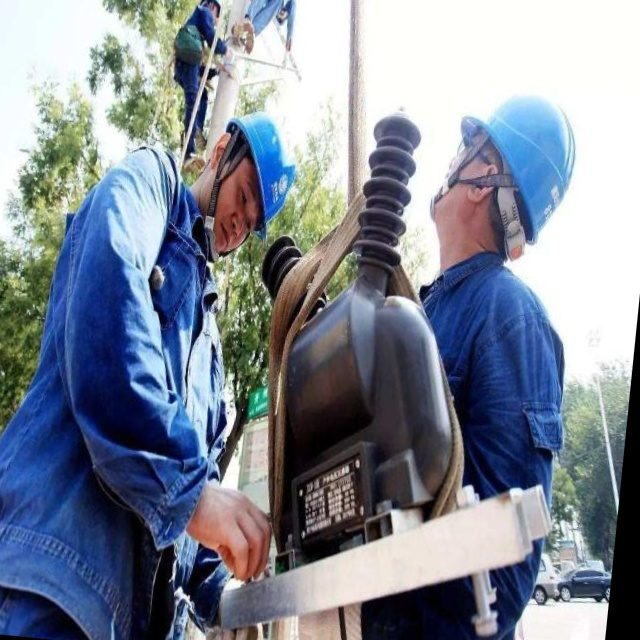Con_Casco: (203, 102, 304, 242)
